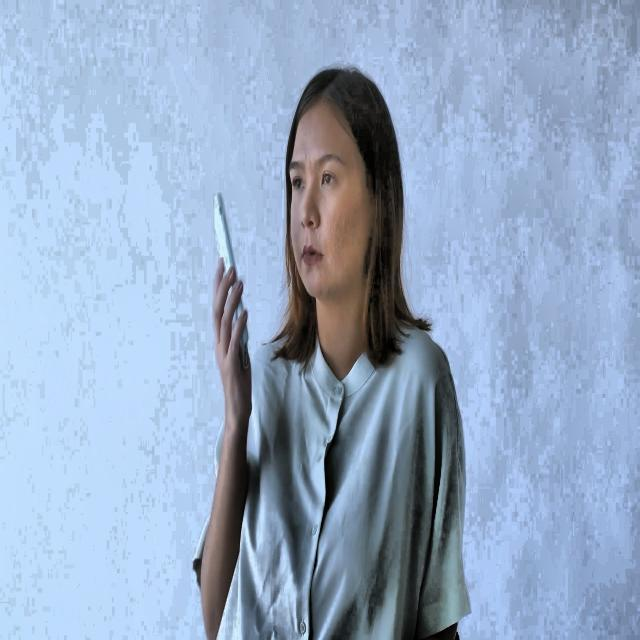Phone: (212, 189, 250, 378)
